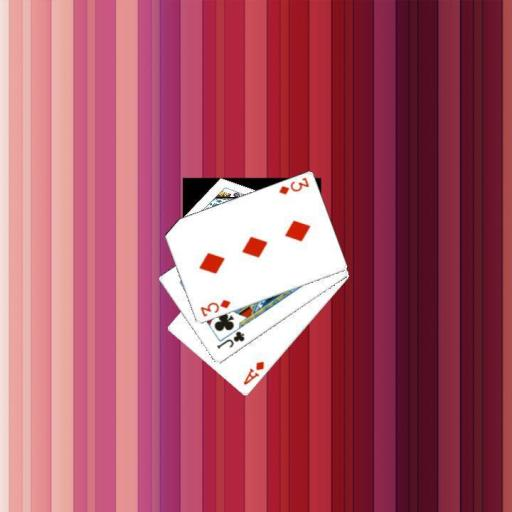card-corner: (197, 296, 232, 318), (275, 174, 310, 196), (240, 358, 266, 387), (213, 328, 246, 350)
